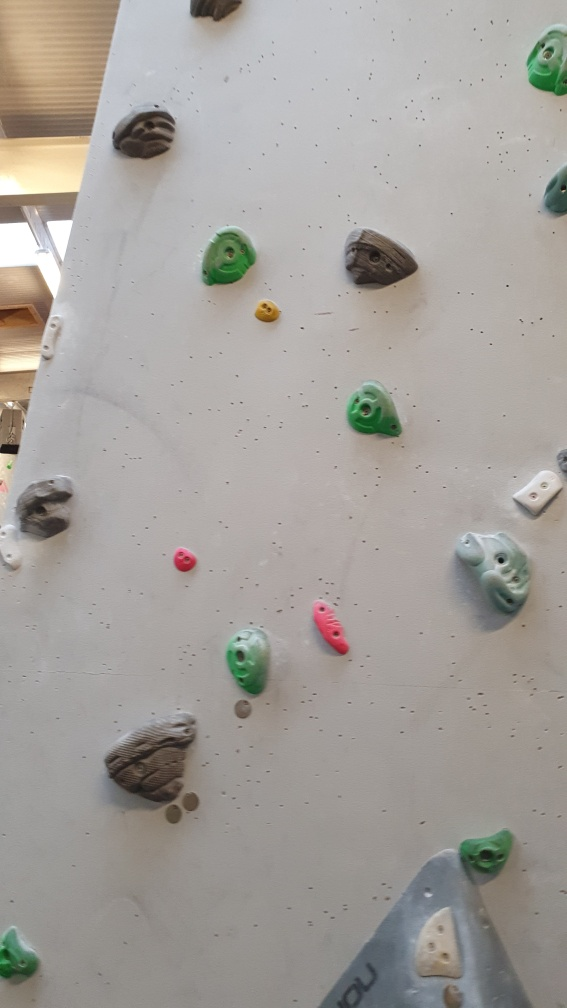Crimp: (413, 902, 471, 982), (305, 599, 357, 659), (512, 468, 564, 520), (1, 524, 27, 574), (40, 314, 63, 360)
Hand Start: (439, 981, 467, 1005), (181, 790, 205, 814), (164, 804, 188, 827), (233, 697, 253, 722)
Jug: (100, 708, 199, 800), (461, 531, 542, 621), (345, 225, 422, 291), (13, 474, 80, 542), (346, 378, 406, 448), (198, 224, 261, 288), (111, 103, 180, 158), (521, 21, 567, 96), (230, 624, 273, 701), (460, 828, 517, 877)
